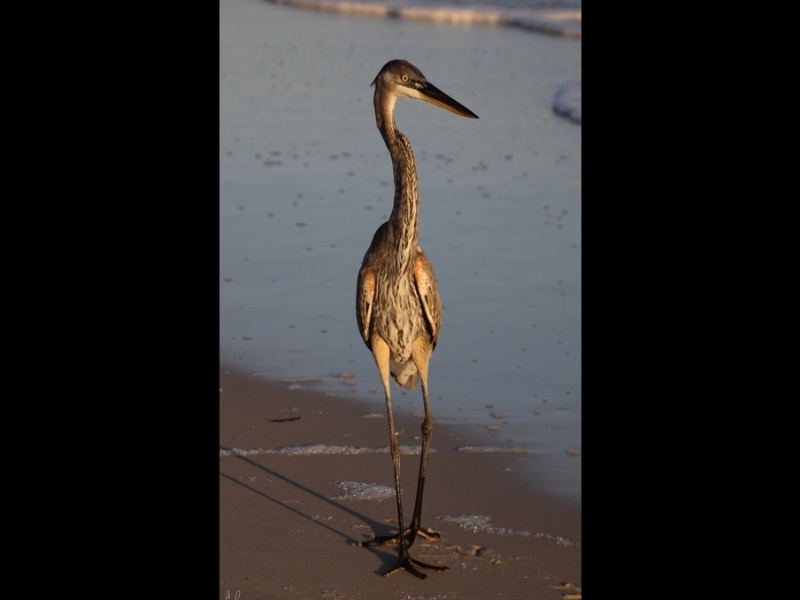heron: (350, 51, 481, 582)
